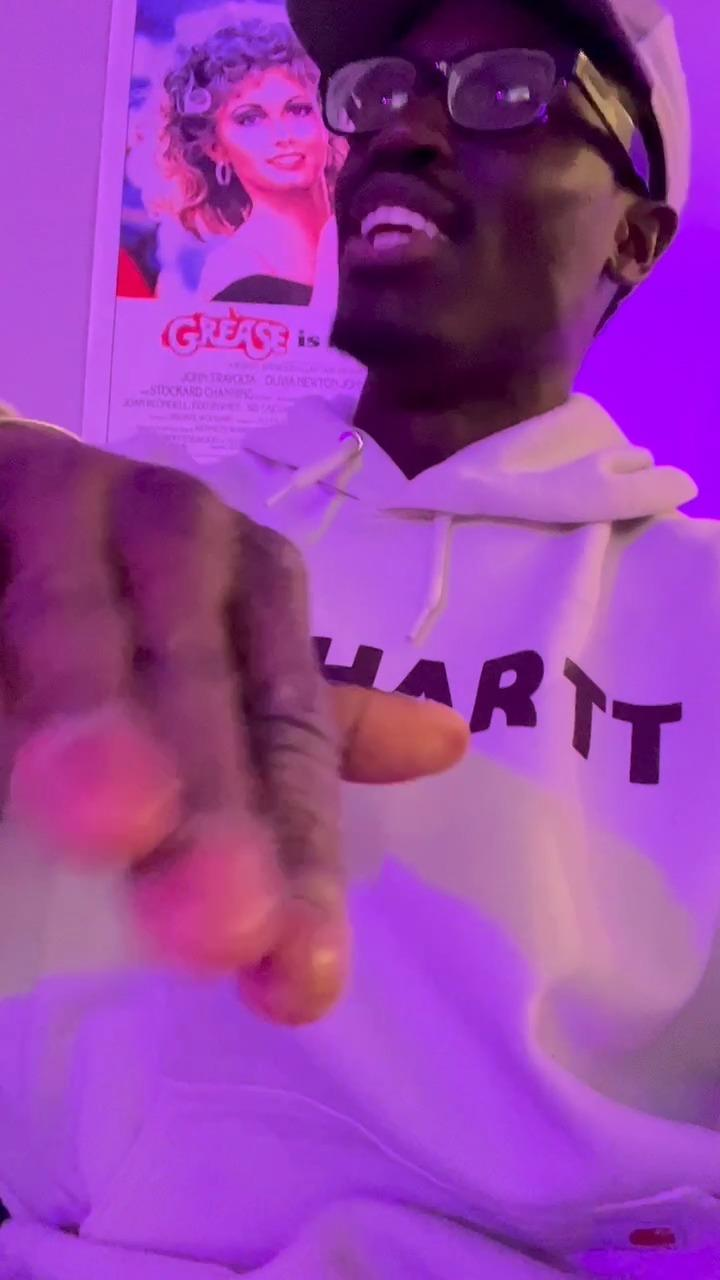Paper: (0, 420, 468, 1034)
